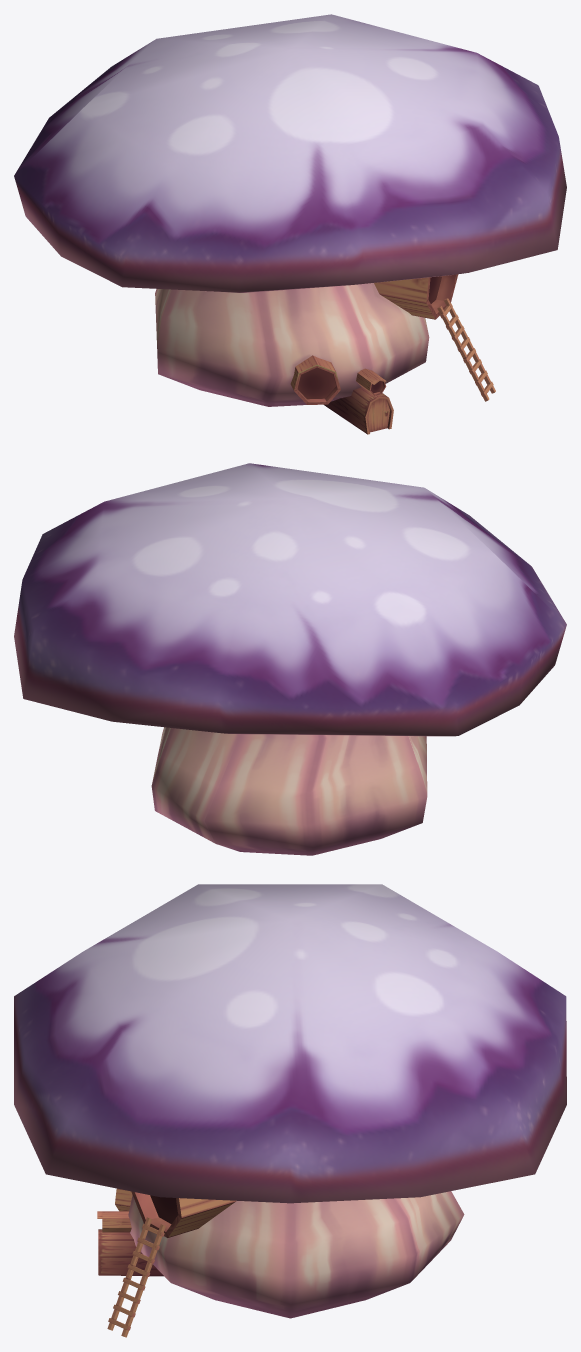
The model's file is MD_mushroom_home_S.fbx.
The picture shows the model from 3 angles, top to bottom: view 1: azimuth 30°, elevation 25°; view 2: azimuth 150°, elevation 25°; view 3: azimuth 270°, elevation 25°; orthographic projection. The views are drawn at different scales.
Visible parts, largest first — view 1: mushroom_home_S2; view 2: mushroom_home_S2; view 3: mushroom_home_S2.
Boxes of the visible parts, x1=… form: mushroom_home_S2: x1=14, y1=14, x2=566, y2=434; mushroom_home_S2: x1=14, y1=463, x2=566, y2=855; mushroom_home_S2: x1=14, y1=884, x2=566, y2=1337.
Bounding box in the file's own units: 1514 × 949 × 1361.
Materials: 1 (1 with a texture image).
